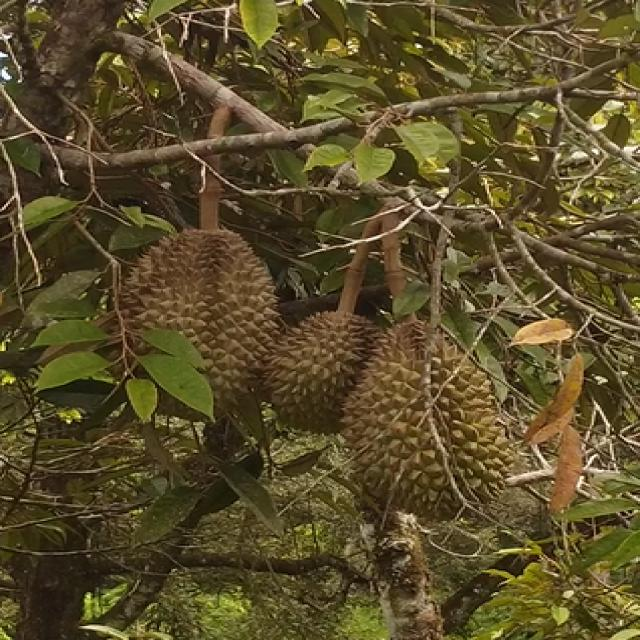mature: (122, 230, 280, 416), (267, 311, 378, 432)
